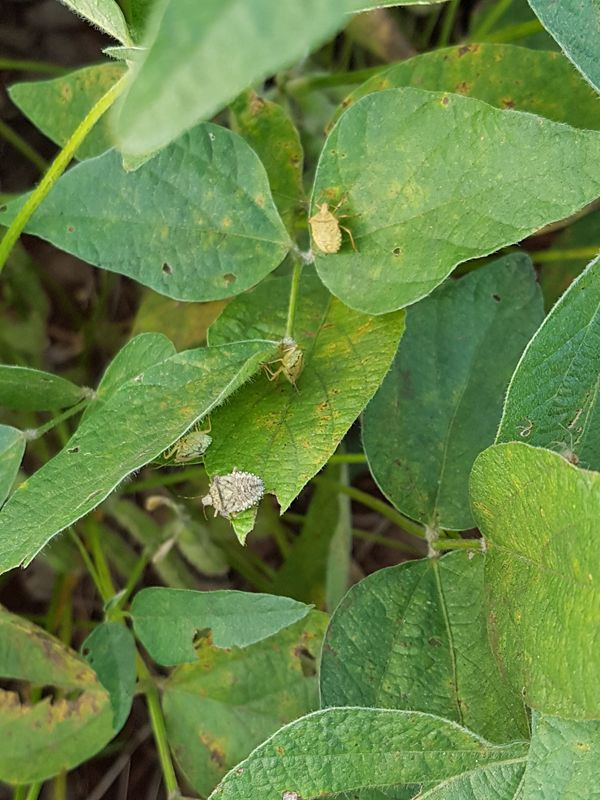Euschistus_heros_ninfa: (295, 190, 368, 262), (194, 464, 270, 527), (155, 409, 217, 467), (256, 339, 316, 397)
